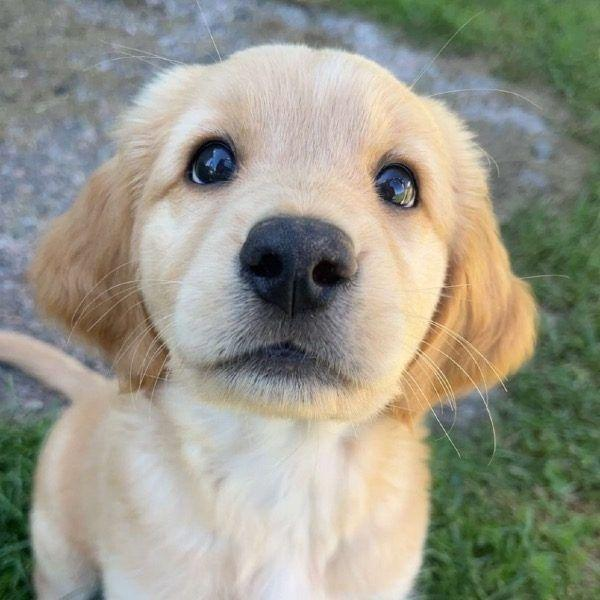puppy-dog: (0, 40, 537, 600)
